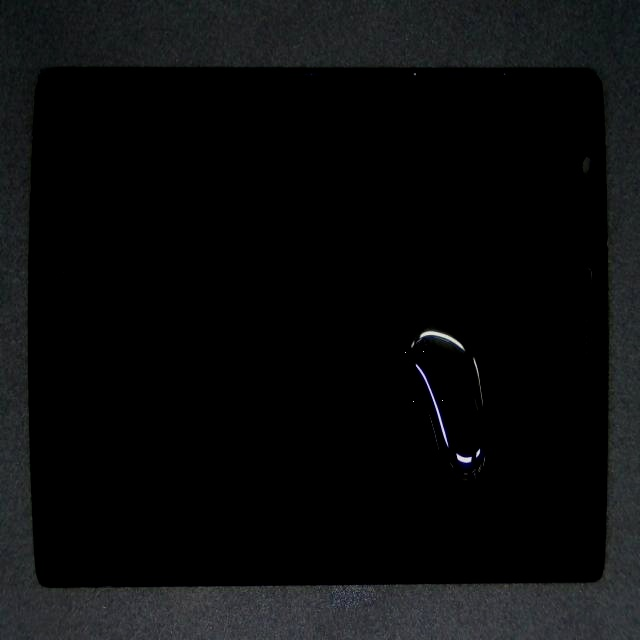oil: (224, 144, 629, 488)
